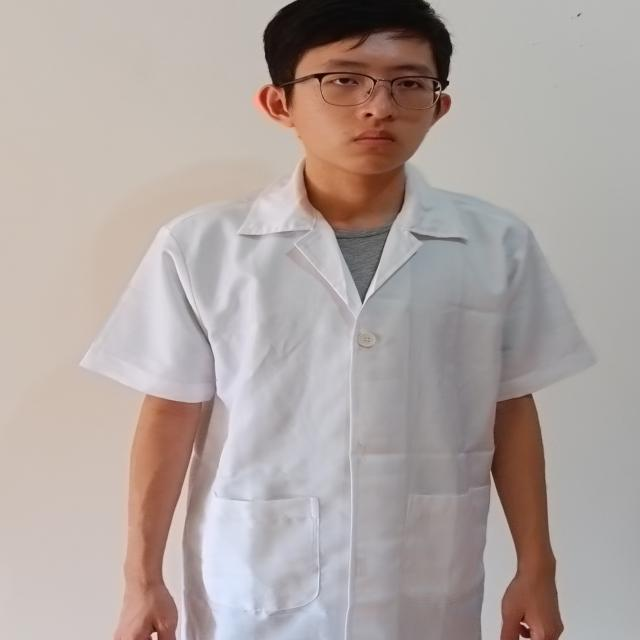person_with_labcoat: (82, 0, 594, 640)
